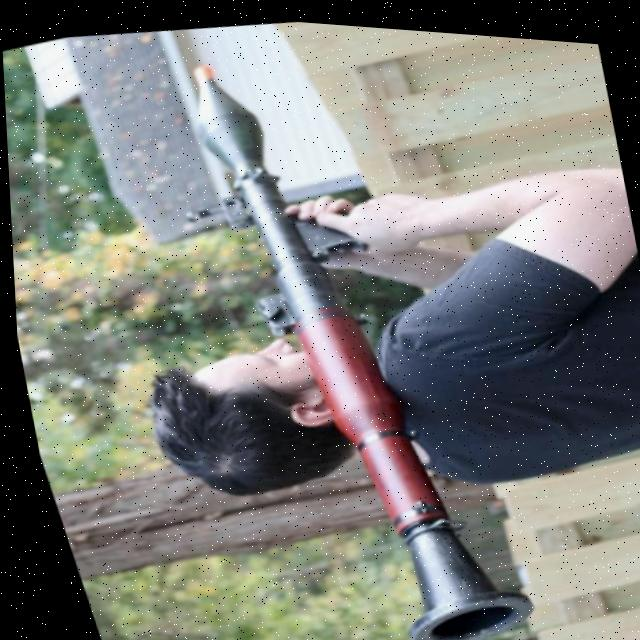rocket: (169, 10, 542, 640)
